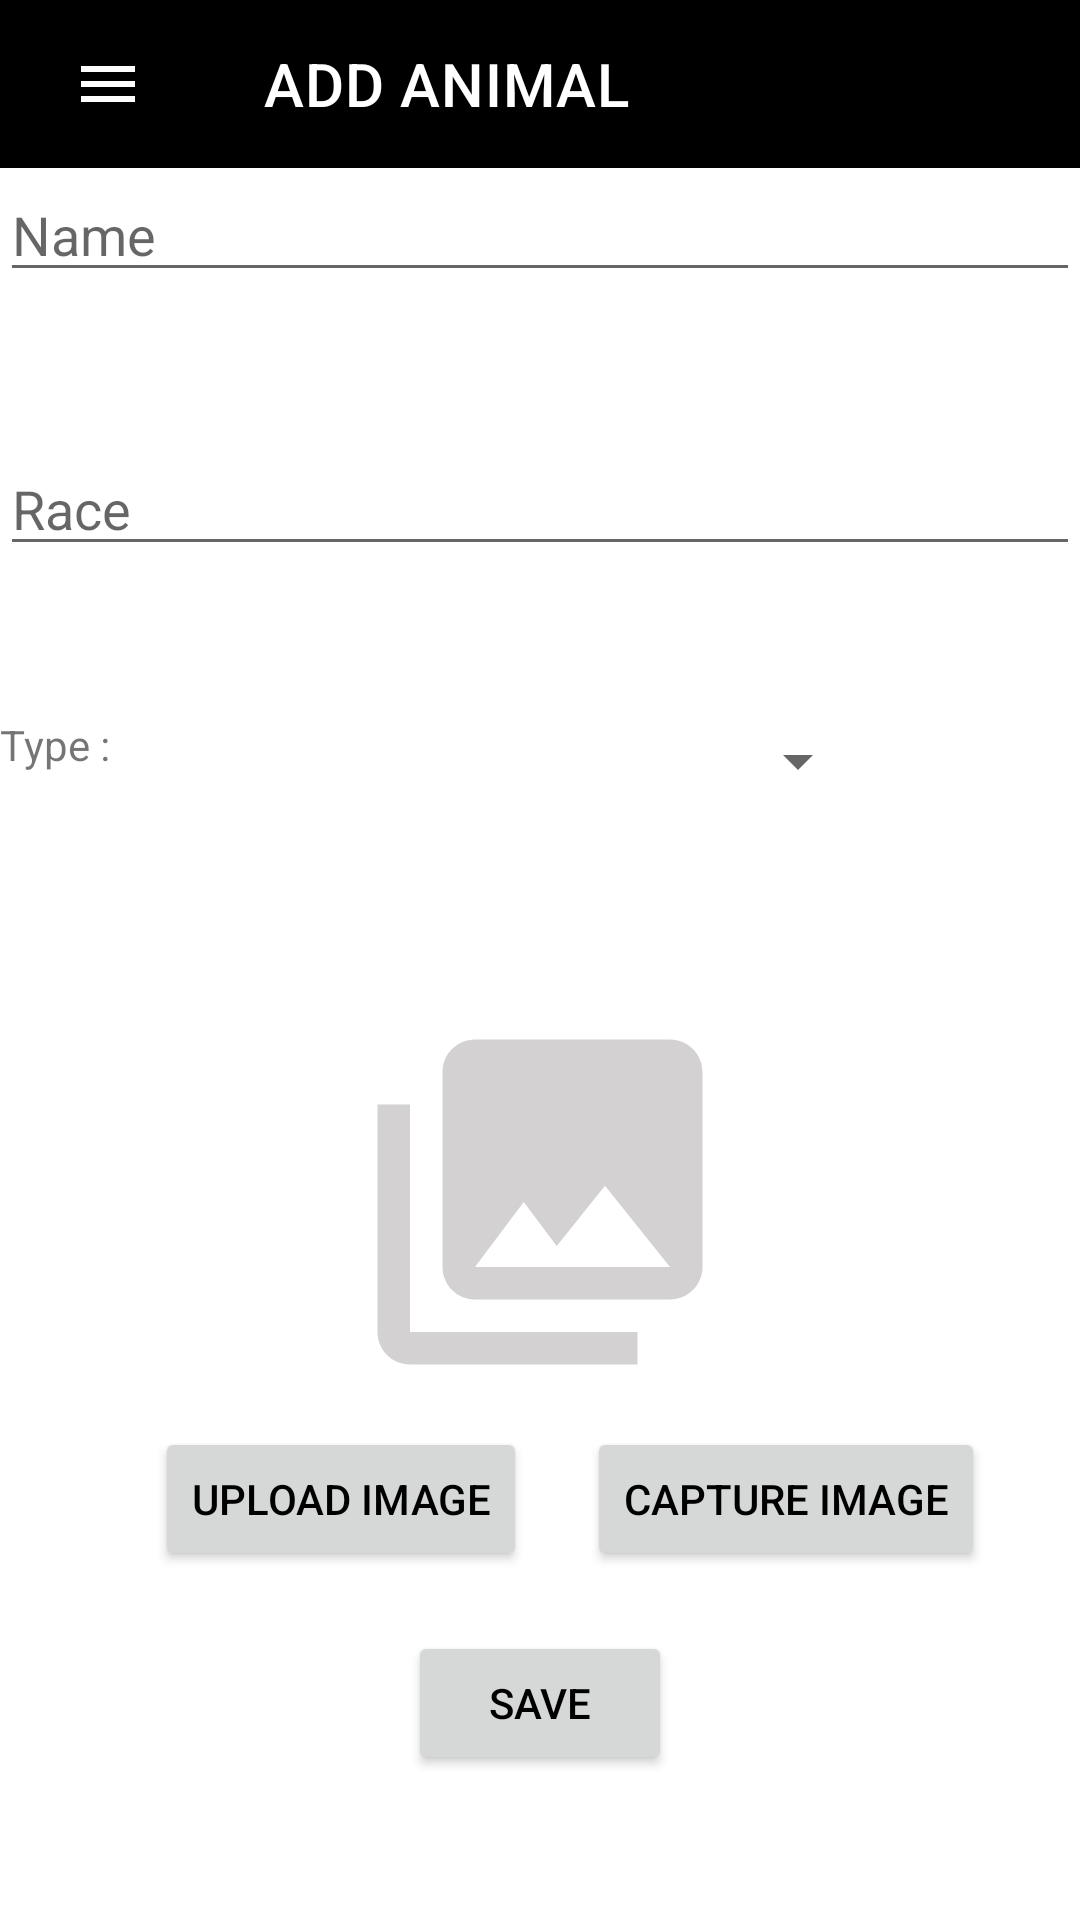

Point at icon controls on the screen. Image size 1080x1920, points as [x,y].
gallery: [540,1202]
menu: [108,84]
